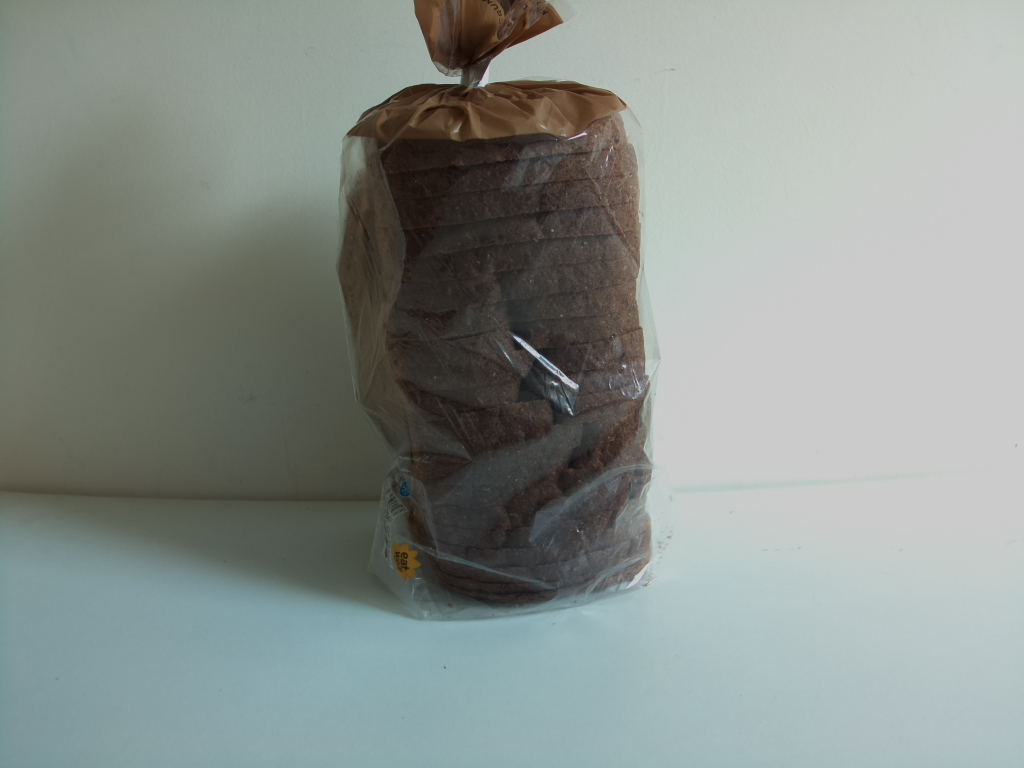bread: (338, 1, 675, 624)
